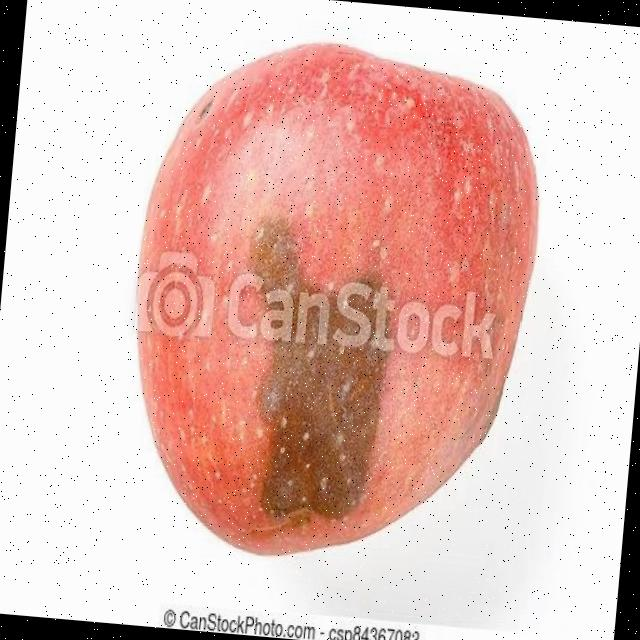rotten apple: (84, 0, 590, 614)
